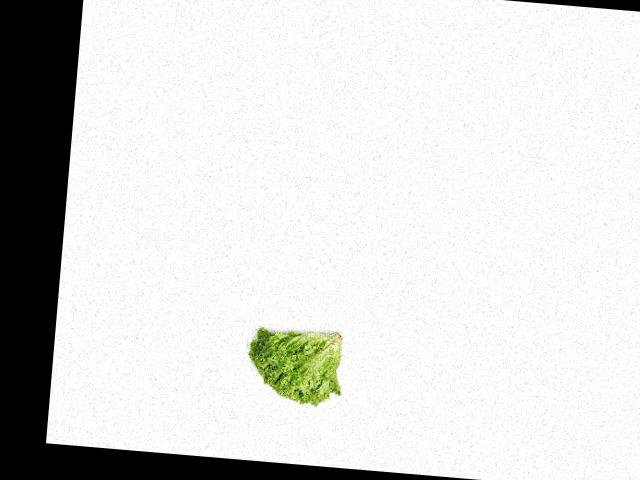lettuce: (239, 316, 350, 413)
